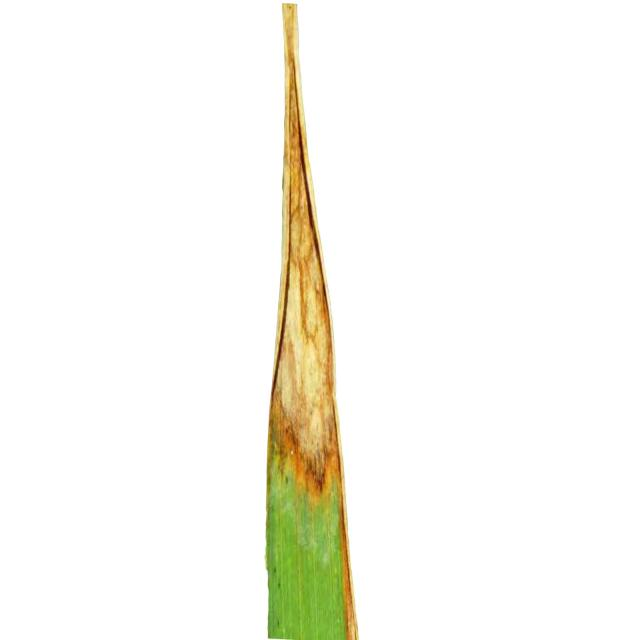Leaf scald: (96, 1, 460, 640)
